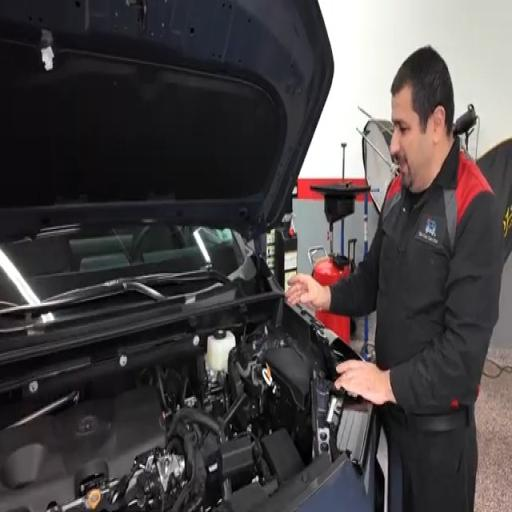hood: (0, 0, 333, 238)
windshield: (0, 225, 243, 308)
